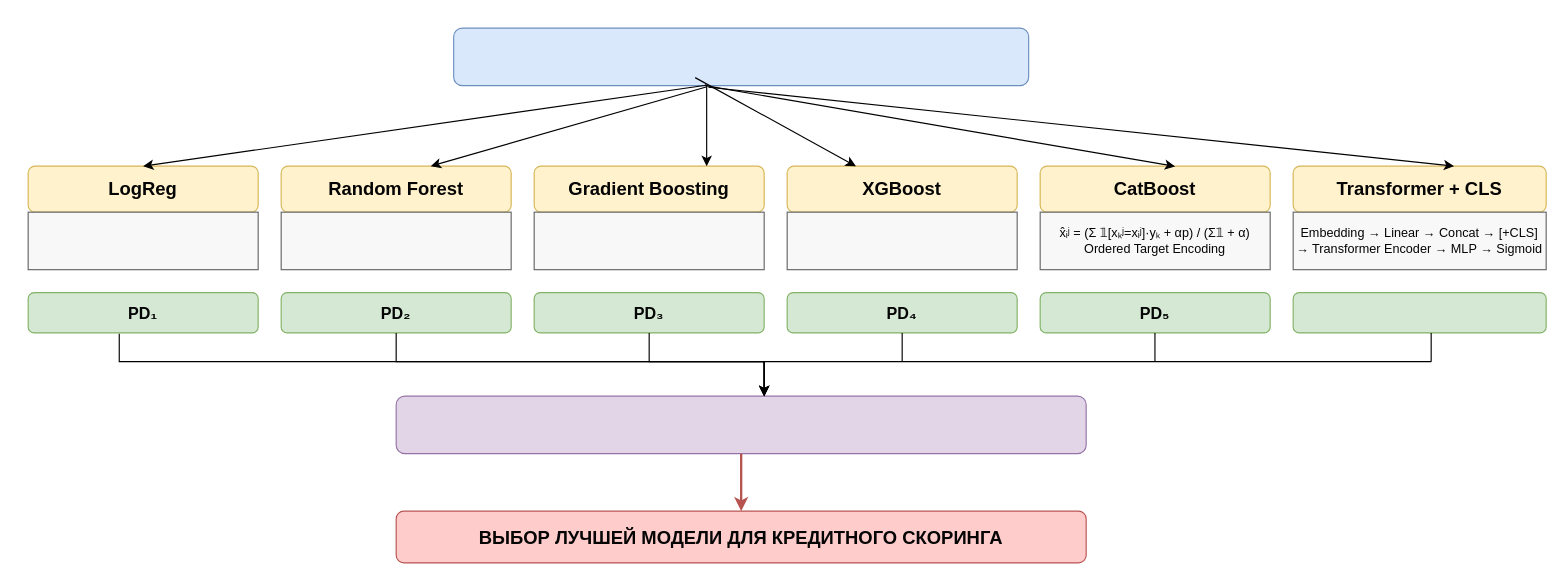
Some shapes in this 1566 by 583 pixel diagram are drawn without their labels. The shapes that lost their labels are listed below. From the top down, each one's centre as x and y in pixels, then its label:
point 741,56: ВХОДНЫЕ ДАННЫЕ (числовые и категориальные признаки)
point 142,240: p̂ = σ(wᵀx + b) L = -1/N Σ [y·log(p̂) + (1-y)·log(1-p̂)]
point 395,240: f(x) = arg max_c [ 1/T Σ 𝟙[h_t(x)=c] ] Ансамбль решающих деревьев
point 648,240: r⁽ᵐ⁾ = y - σ(Fₘ₋₁(x)) hₘ = arg min Σ (r - h)²
point 901,240: L⁽ᵐ⁾ = Σ L(y, Fₘ₋₁ + hₘ) + Ω(hₘ) Ω = γT + ½λ‖w‖²
point 1419,312: PD₆
point 740,424: МЕТРИКИ ОЦЕНКИ AUC-ROC │ Accuracy │
